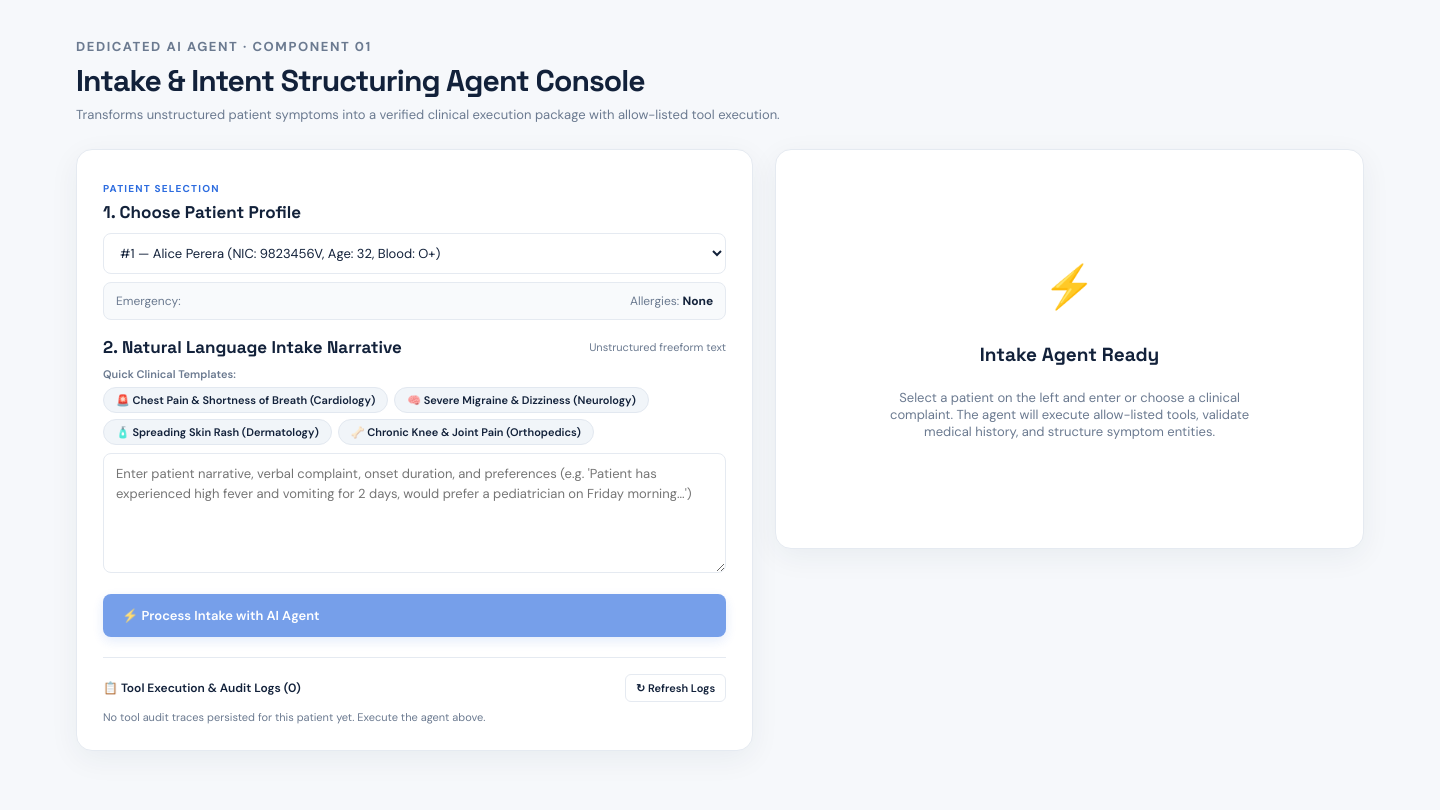
it: IntakeAgentConsoleTab › shows error when process API fails
The image size is (1440, 810).
Expected: the heading "Intake & Intent Structuring Agent Console" is shown, [76,61,645,100]
Expected: the dropdown shows "#1 — Alice Perera (NIC: 9823456V, Age: 32, Blood: O+)", [103,233,726,274]
In the text box: (415, 513) [103,453,726,572], type "Severe migraine and vomiting."
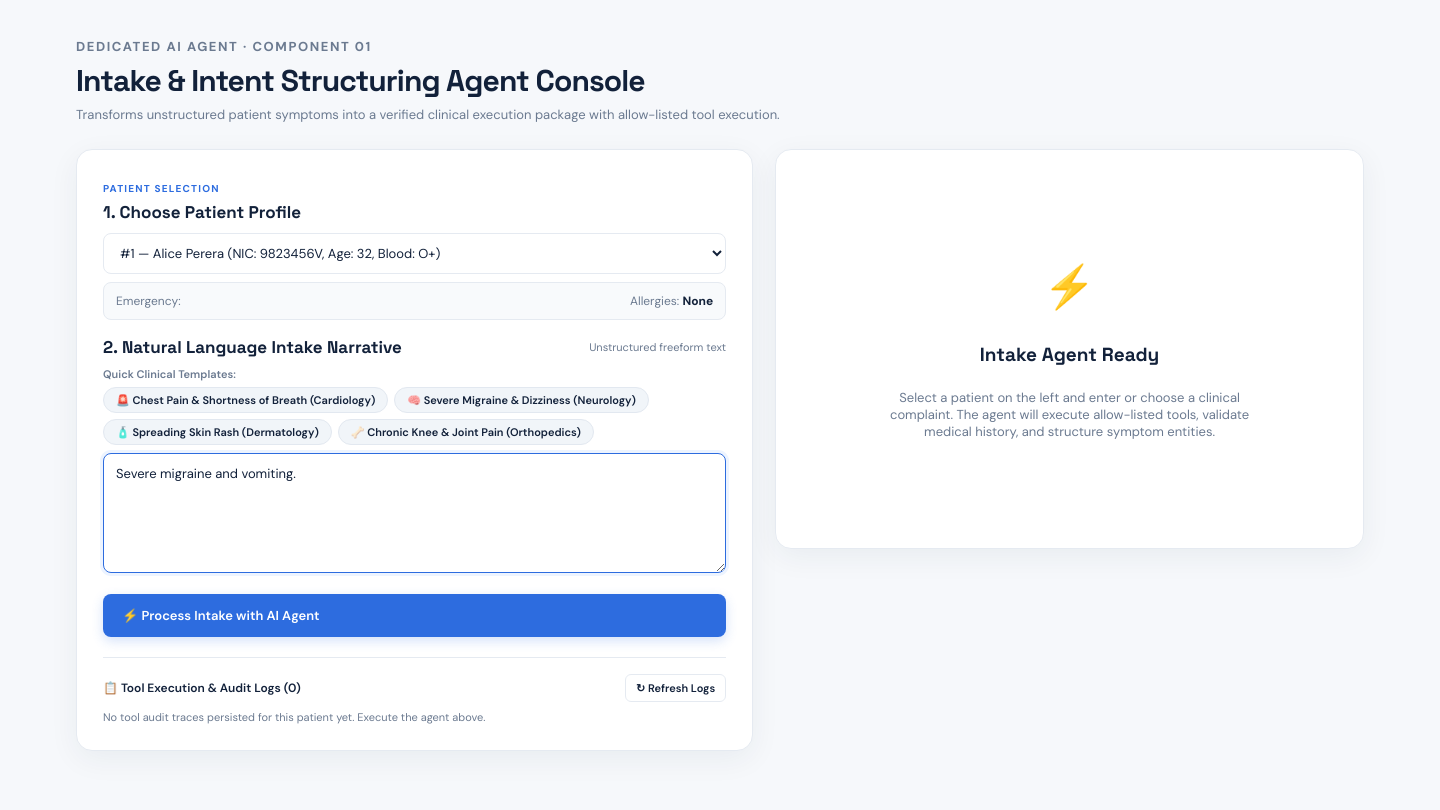
Now the button "⚡ Process Intake with AI Agent" is enabled
Click the button "⚡ Process Intake with AI Agent": (221, 615) [103,594,726,636]
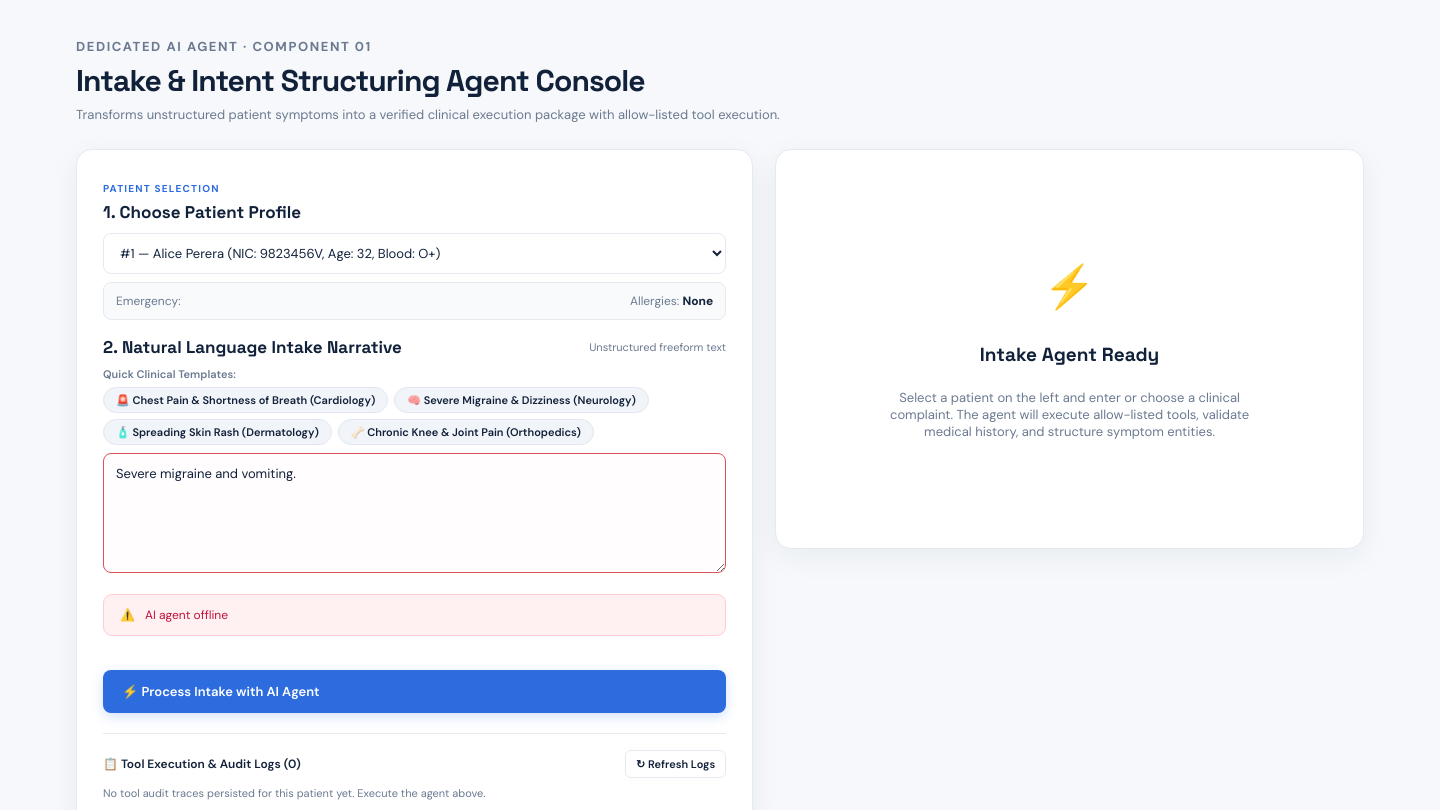
Now the text "AI agent offline" is shown, box [145,606,228,622]
